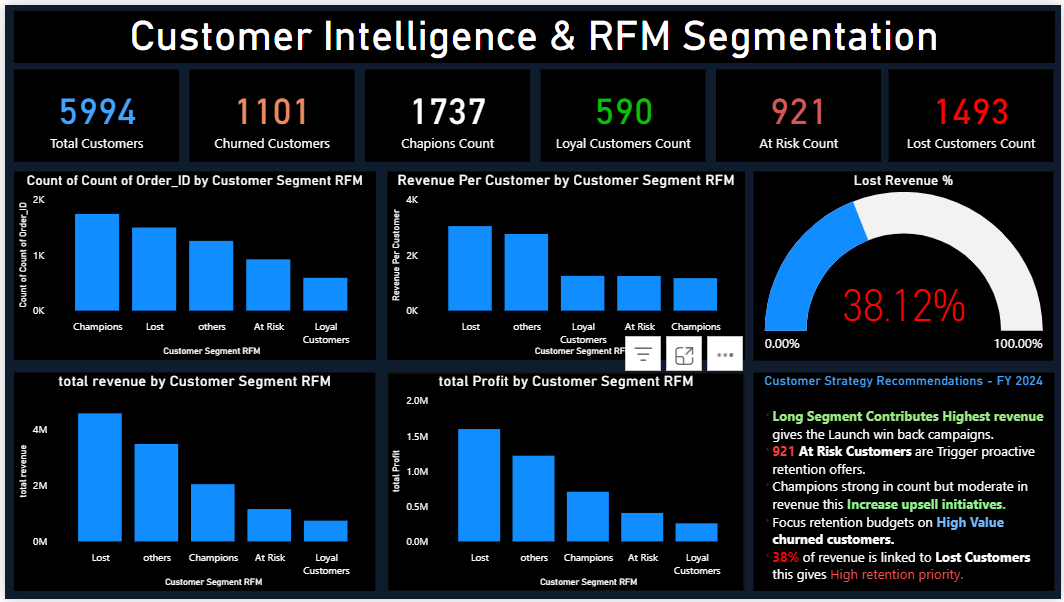

The dashboard page shown, as its layout file describes it:
{"tool":"powerbi","page":{"name":"CI & RFM Segmentation","canvas":[1280,720],"ordinal":2},"visuals":[{"type":"card","fields":{"Values":["Business_Analytics_Dataset_1000.total Customers"]},"box":[10,78.3,200,111.7],"z":0},{"type":"card","fields":{"Values":["Customer Summary.At Risk Count"]},"box":[861.7,78.3,200,111.7],"z":1},{"type":"card","fields":{"Values":["Customer Summary.Loyal Customers Count"]},"box":[648.3,78.3,200,111.7],"z":2},{"type":"card","fields":{"Values":["Customer Summary.Chapions Count"]},"box":[436.7,78.3,200,111.7],"z":3},{"type":"card","fields":{"Values":["Customer Summary.Lost Customers Count"]},"box":[1071.7,78.3,200,111.7],"z":4},{"type":"card","fields":{"Values":["Customer Summary.Churned Customers"]},"box":[223.3,78.3,200,111.7],"z":5},{"type":"clusteredColumnChart","fields":{"Y":["CountNonNull(Customer Summary.Count of Order_ID)"],"Category":["Customer Summary.Customer Segment RFM"]},"box":[10,201.7,438.3,228.3],"z":8},{"type":"clusteredColumnChart","fields":{"Category":["Customer Summary.Customer Segment RFM"],"Y":["Business_Analytics_Dataset_1000.total revenue"]},"box":[10.5,446.1,438.2,264.5],"z":9},{"type":"clusteredColumnChart","fields":{"Y":["Business_Analytics_Dataset_1000.Revenue Per Customer"],"Category":["Customer Summary.Customer Segment RFM"]},"box":[463.3,201.7,433.3,228.3],"z":10},{"type":"clusteredColumnChart","fields":{"Category":["Customer Summary.Customer Segment RFM"],"Y":["Business_Analytics_Dataset_1000.total Profit"]},"box":[463.2,446.1,432.9,264.5],"z":13},{"type":"textbox","title":"Customer Intelligence & RFM Segmentation","box":[10.1,8.1,1261.6,62.6],"z":14},{"type":"textbox","title":"Customer Strategy Recommendations - FY 2024","box":[907.9,446.1,364.5,264.5],"z":15},{"type":"gauge","fields":{"Y":["Customer Summary.Lost Revenue %"]},"box":[907.3,201.8,363.6,229.1],"z":16}]}

Visuals, with their boxes in screenshot pixels (x1, y1, x2, y2), scaled from the page's 1280x720 canvas onto the 1064x602 screenshot:
card - Business_Analytics_Dataset_1000.total Customers: [x1=8, y1=65, x2=175, y2=159]
card - Customer Summary.At Risk Count: [x1=716, y1=65, x2=883, y2=159]
card - Customer Summary.Loyal Customers Count: [x1=539, y1=65, x2=705, y2=159]
card - Customer Summary.Chapions Count: [x1=363, y1=65, x2=529, y2=159]
card - Customer Summary.Lost Customers Count: [x1=891, y1=65, x2=1057, y2=159]
card - Customer Summary.Churned Customers: [x1=186, y1=65, x2=352, y2=159]
clusteredColumnChart - CountNonNull(Customer Summary.Count of Order_ID) x Customer Summary.Customer Segment RFM: [x1=8, y1=169, x2=373, y2=360]
clusteredColumnChart - Customer Summary.Customer Segment RFM x Business_Analytics_Dataset_1000.total revenue: [x1=9, y1=373, x2=373, y2=594]
clusteredColumnChart - Business_Analytics_Dataset_1000.Revenue Per Customer x Customer Summary.Customer Segment RFM: [x1=385, y1=169, x2=745, y2=360]
clusteredColumnChart - Customer Summary.Customer Segment RFM x Business_Analytics_Dataset_1000.total Profit: [x1=385, y1=373, x2=745, y2=594]
"Customer Intelligence & RFM Segmentation" textbox: [x1=8, y1=7, x2=1057, y2=59]
"Customer Strategy Recommendations - FY 2024" textbox: [x1=755, y1=373, x2=1058, y2=594]
gauge - Customer Summary.Lost Revenue %: [x1=754, y1=169, x2=1056, y2=360]
